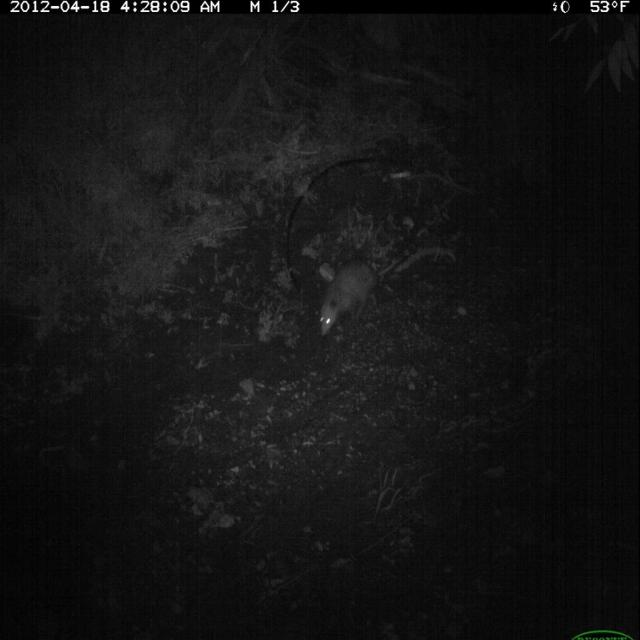opossum: (311, 237, 424, 344)
